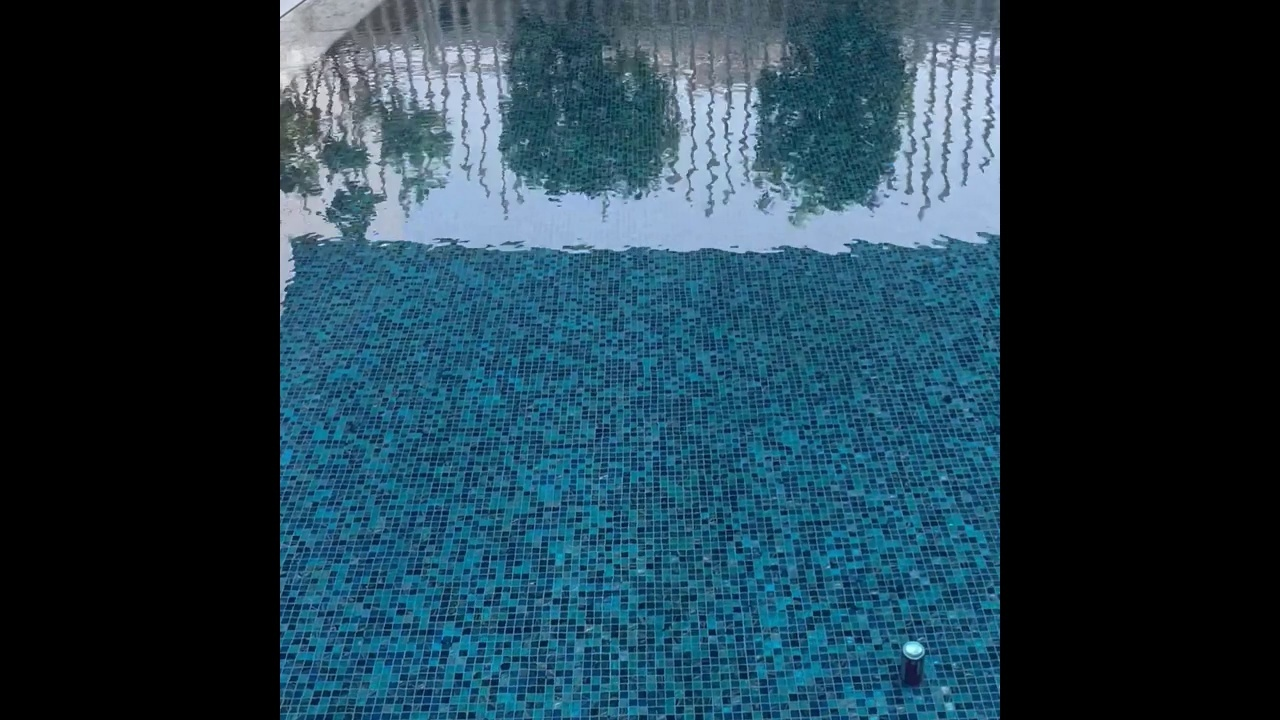debris: (896, 639, 928, 688)
